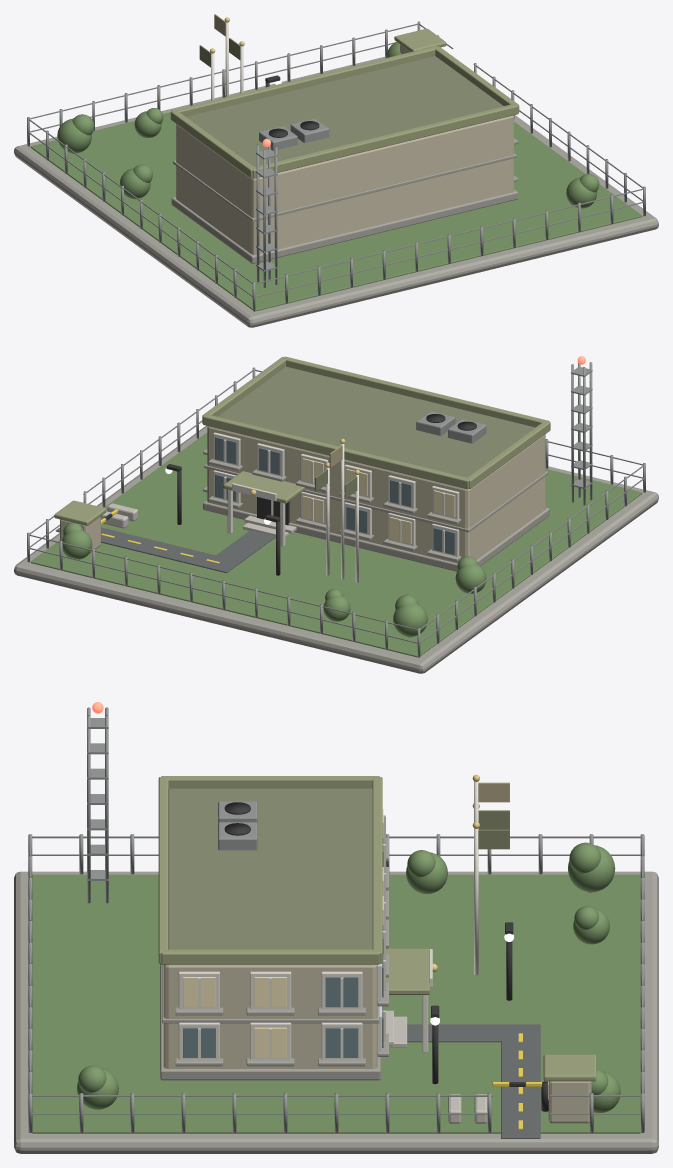
3 views of the same model, one above another, from view 1: azimuth 30°, elevation 25°; view 2: azimuth 150°, elevation 25°; view 3: azimuth 270°, elevation 25° (orthographic). The views are drawn at different scales.
Visible parts, largest first — view 1: Cube.001, Cube.018, Cube.089, Cube, Cube.019, Cube.090, Cube.091, Cube.088, Cube.092, Cube.093, Cube.011, Sphere.007 (+13 smaller); view 2: Cube.001, Cube.089, Cube.018, Cube, Cube.091, Cube.090, Cube.019, Cube.003, Cube.092, Cube.096, Cube.002, Cube.088 (+19 smaller); view 3: Cube.001, Cube.089, Cube, Cube.018, Cube.003, Cube.093, Cube.019, Cube.092, Cube.096, Cube.090, Cube.091, Cube.010 (+23 smaller).
Part boxes in pixels (x1,y1,x2,y2): Cube.001: (30, 112, 642, 311); Cube.018: (176, 115, 513, 254); Cube.089: (186, 56, 503, 166); Cube: (14, 57, 658, 327); Cube.019: (171, 189, 518, 263); Cube.090: (252, 103, 518, 178); Cube.091: (171, 46, 438, 116); Cube.088: (173, 153, 516, 221); Cube.092: (170, 110, 255, 178); Cube.093: (434, 46, 519, 112); Cube.011: (394, 28, 446, 51); Sphere.007: (57, 118, 91, 153); Cube.001: (30, 432, 642, 657); Cube.089: (218, 366, 535, 477); Cube.018: (207, 426, 545, 563); Cube: (14, 425, 658, 673); Cube.091: (203, 414, 469, 489); Cube.090: (283, 356, 549, 427); Cube.019: (203, 500, 549, 571); Cube.003: (56, 527, 235, 573); Cube.092: (466, 421, 550, 488); Cube.096: (223, 471, 304, 503); Cube.002: (211, 530, 275, 566); Cube.088: (204, 464, 548, 532); Cube.001: (32, 874, 640, 1133); Cube.089: (168, 788, 372, 949); Cube: (14, 871, 658, 1153); Cube.018: (163, 964, 377, 1068); Cube.003: (501, 1024, 540, 1138); Cube.093: (161, 949, 379, 964); Cube.019: (160, 963, 380, 1080); Cube.092: (161, 776, 379, 788); Cube.096: (386, 948, 430, 994); Cube.090: (158, 777, 168, 963); Cube.091: (372, 777, 382, 963); Cube.010: (548, 1081, 591, 1123).
Size of the model in its own units: 3.92 by 1.43 by 3.92.
